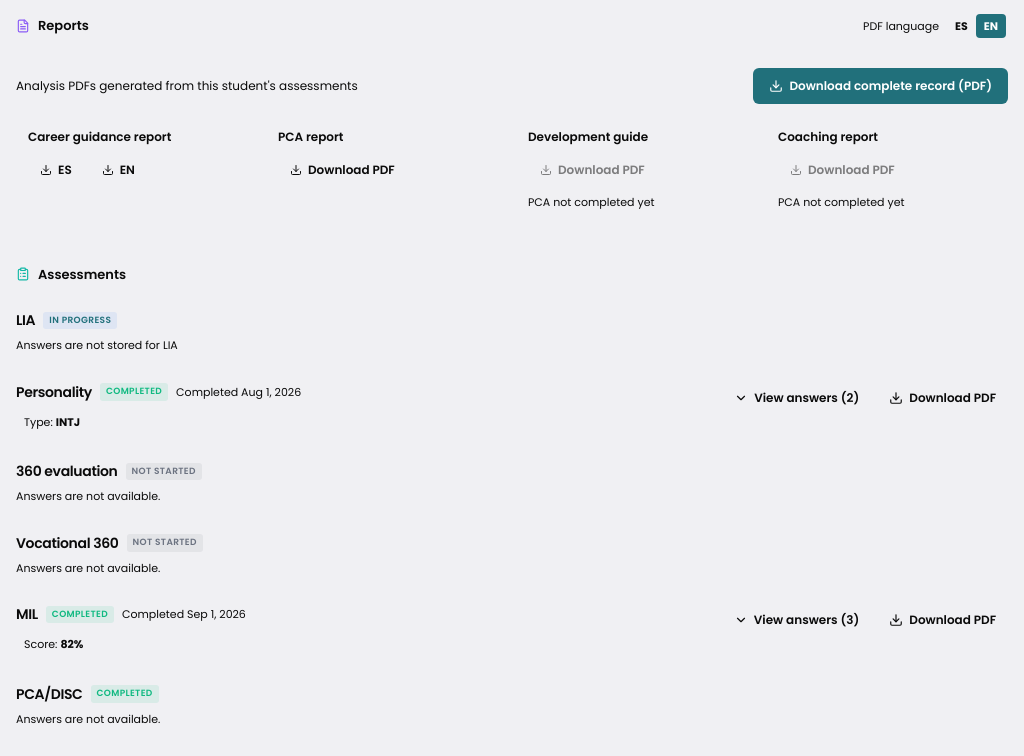
omits the correct-answer and result columns when the data has none
The width and height of the screenshot is (1024, 756).
What coordinates should you click on to do the following:
click the button "View answers (2)"
I would click on:
 (797, 398)
Its box is x1=722 y1=382 x2=871 y2=414.
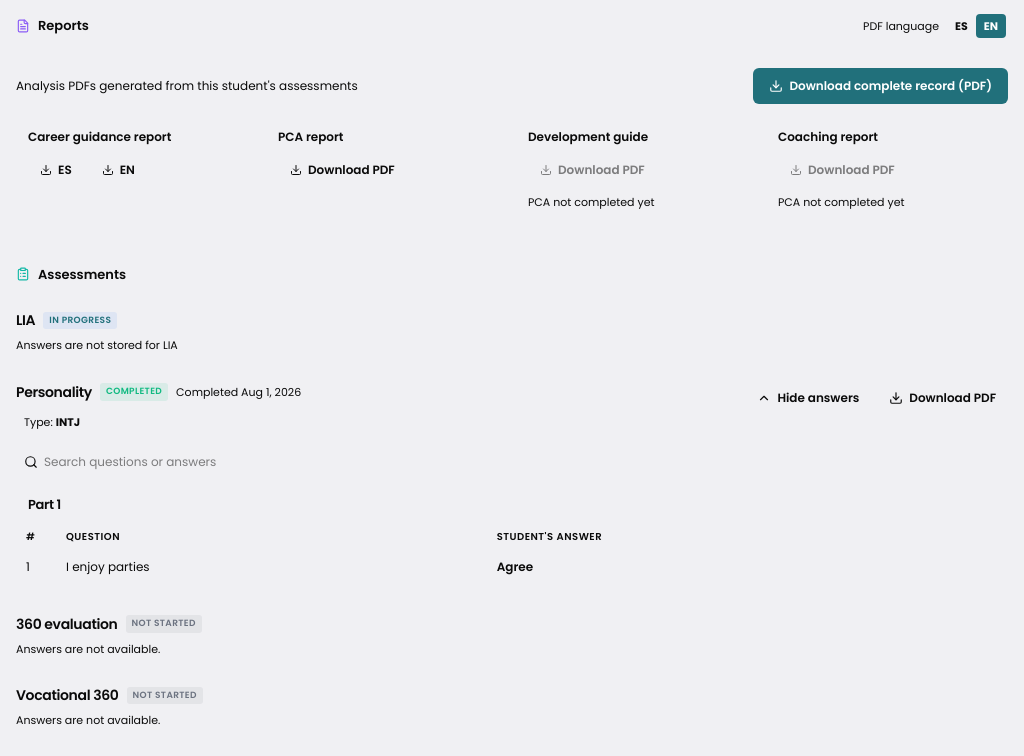
Result: the text "I enjoy parties" is shown at x1=66 y1=558 x2=150 y2=574
